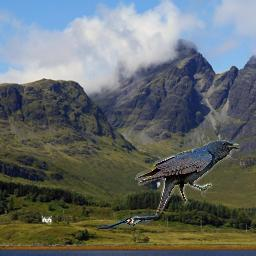Crow: (135, 140, 240, 217)
Swallow: (97, 213, 159, 229)
